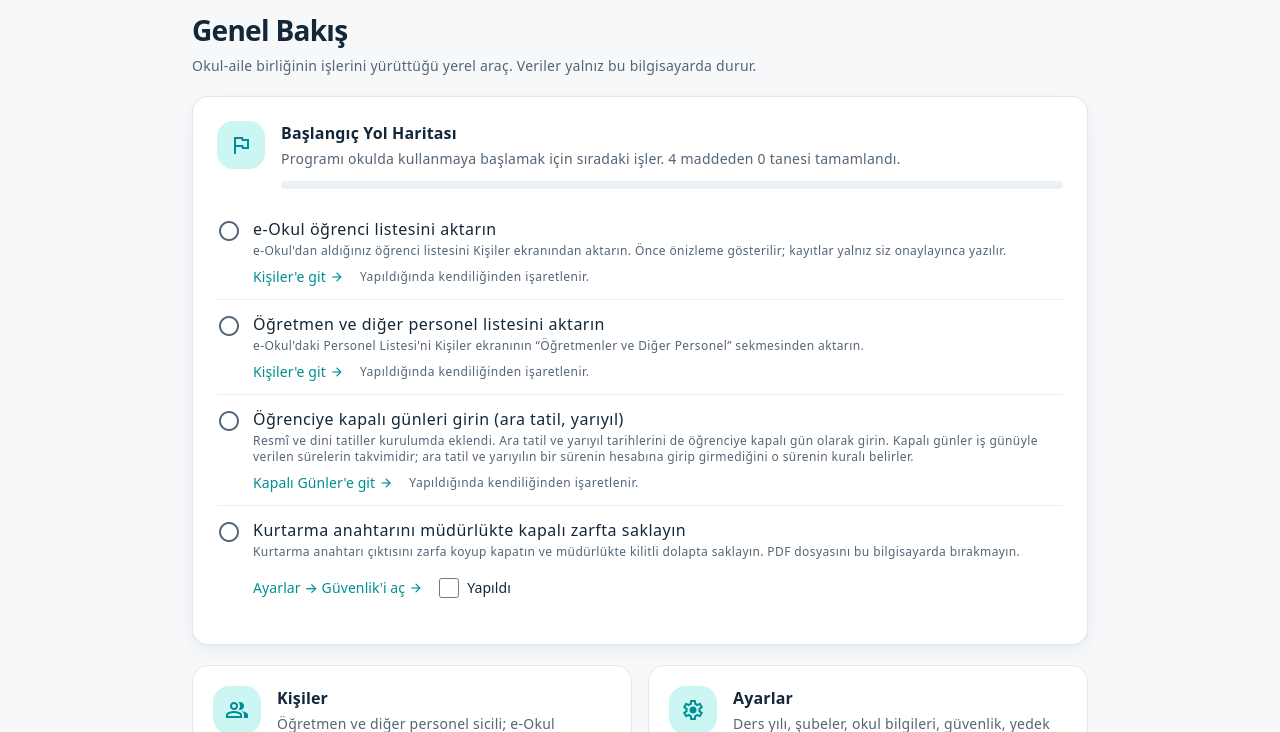
Test case: Başlangıç Yol Haritası › işaret kaydedilemezse hata bildirilir, kutu işaretlenmez
Click the checkbox named "Kurtarma anahtarını müdürlükte kapalı zarfta saklayın — yapıldı" at (449,588), box [439,578,459,598]
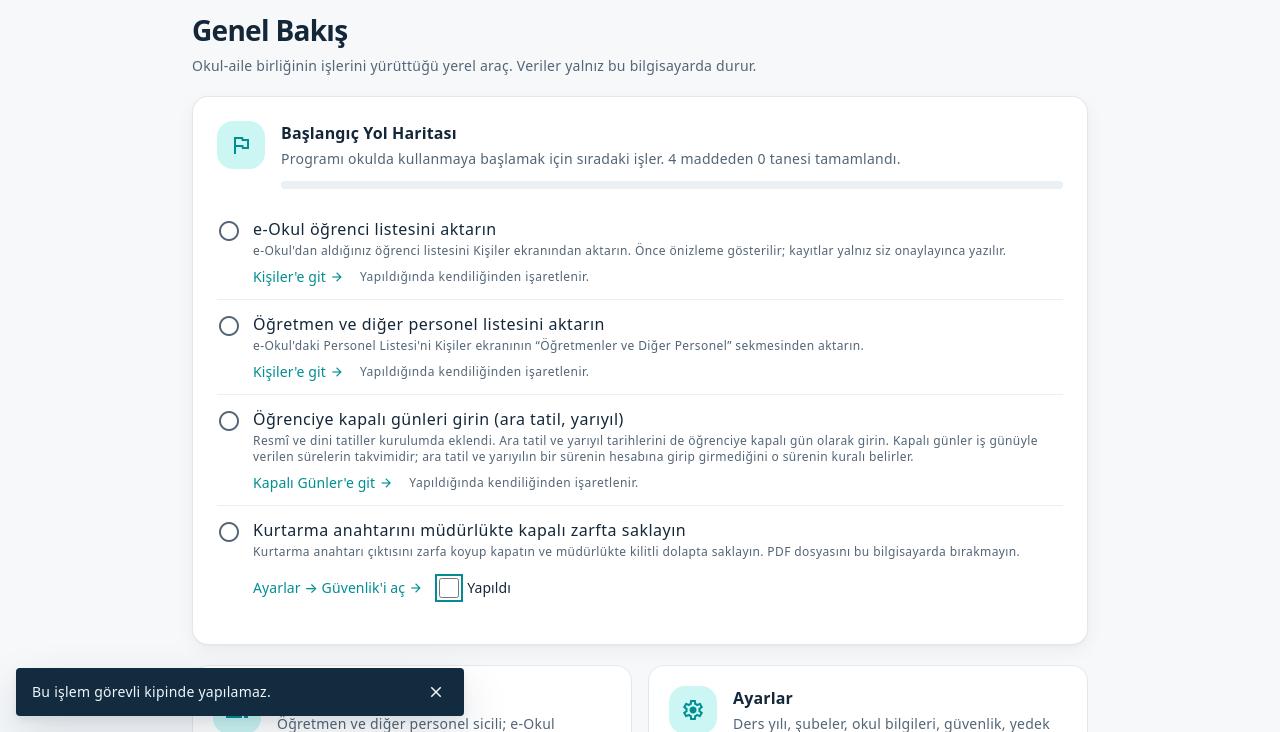
expect the text "Bu işlem görevli kipinde yapılamaz." is shown: met, box [32,682,271,701]
